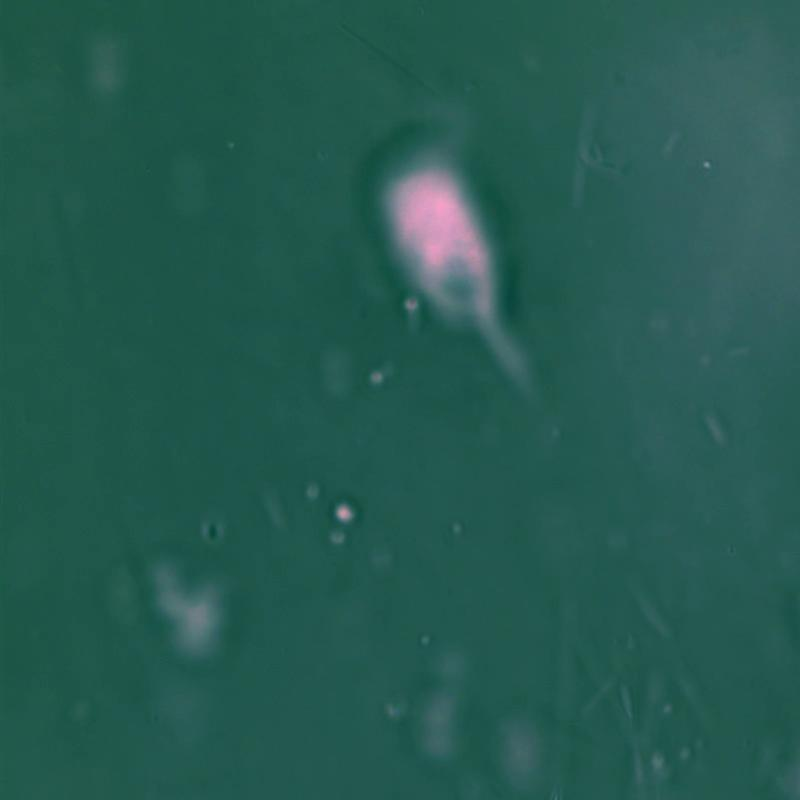depth:100: (340, 102, 560, 436)
